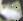with_mask: (1, 2, 23, 21)
